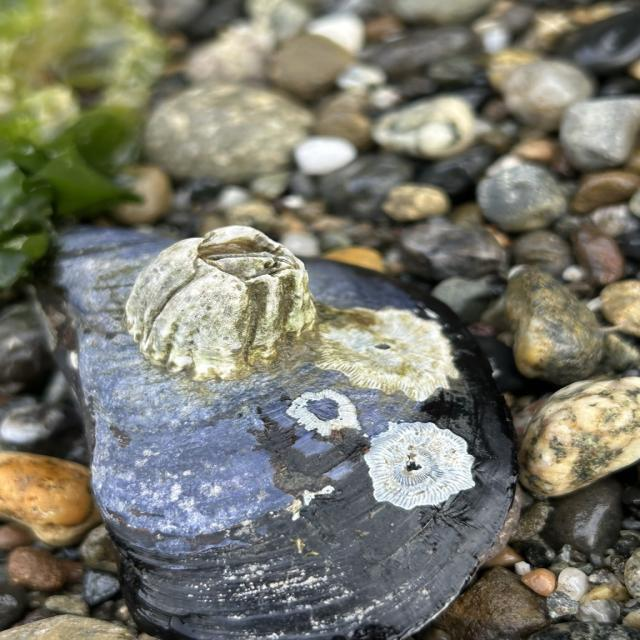barnacles: (127, 223, 314, 394)
